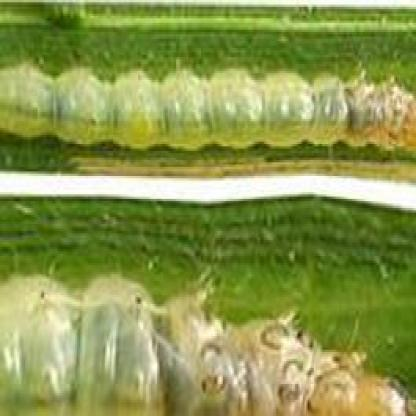leaf-folder: (9, 46, 416, 198), (24, 251, 376, 416)
